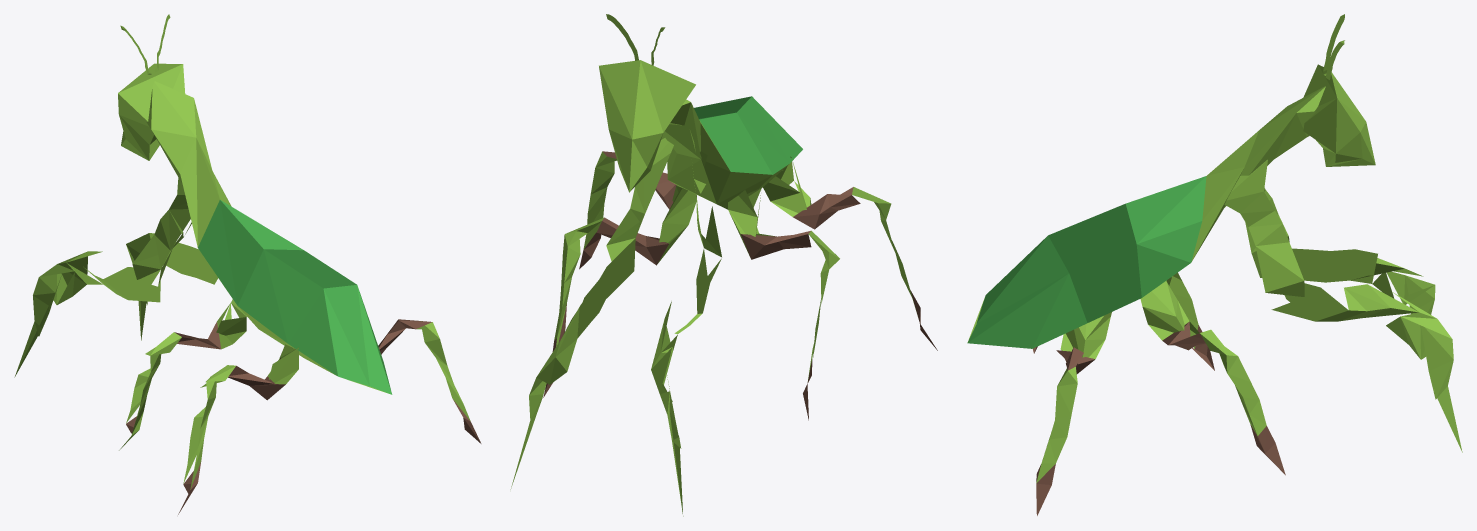
Rendered from praying-mantis-lorenzo-cinalli_bm9Q0hKjcVC.glb.
The picture shows the model from 3 angles, left to right: view 1: azimuth 30°, elevation 25°; view 2: azimuth 150°, elevation 25°; view 3: azimuth 270°, elevation 25°; orthographic projection. The views are drawn at different scales.
Parts seen in each view (by area): view 1: Node; view 2: Node; view 3: Node.
Part boxes in pixels (<box>): Node: <box>14,14,481,514</box>; Node: <box>510,14,937,516</box>; Node: <box>967,14,1462,515</box>.
Size of the model in its own units: 0.6261 by 0.733 by 0.8231.
